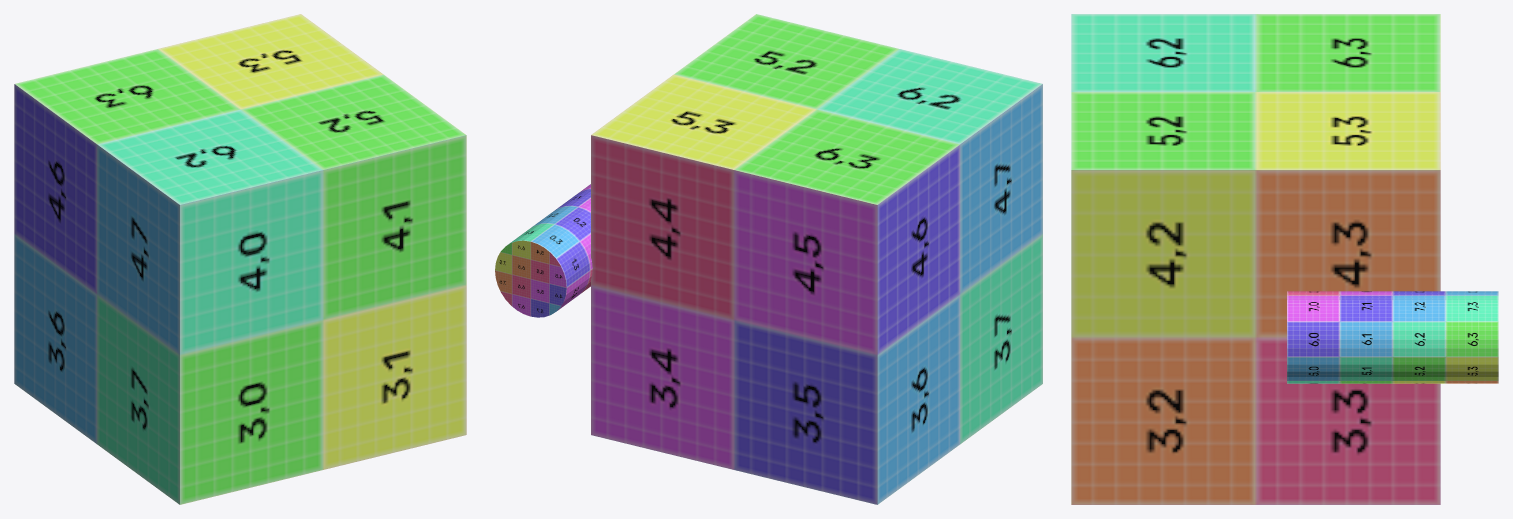
Rendered from Player.obj.
3 views of the same model, side by side, from view 1: azimuth 30°, elevation 25°; view 2: azimuth 150°, elevation 25°; view 3: azimuth 270°, elevation 25° (orthographic). The views are drawn at different scales.
Parts seen in each view (by area): view 1: 立方体; view 2: 立方体; view 3: 立方体.
Part boxes in pixels (x1,y1,x2,y2): 立方体: [14, 14, 466, 504]; 立方体: [495, 14, 1042, 504]; 立方体: [1071, 14, 1498, 504].
Size of the model in its own units: 0.4975 by 0.4 by 0.463.
